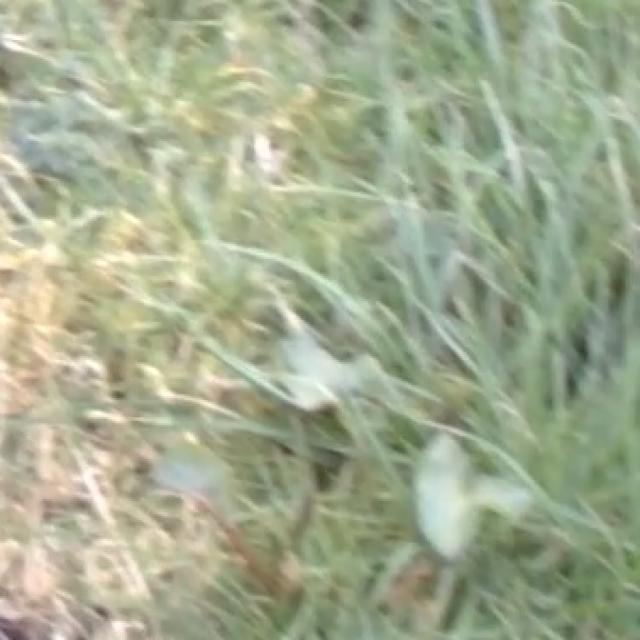organic waste: (225, 280, 543, 584)
